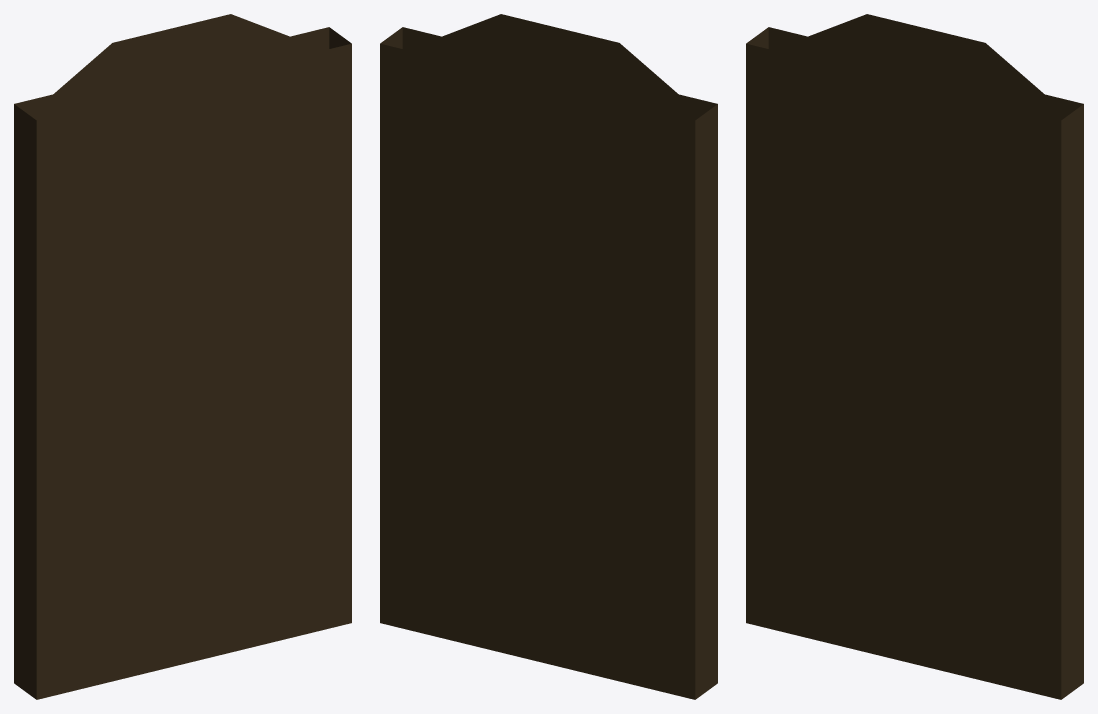
The model's file is Itr_Obj_Grandfatherclock1_Back_02.FBX.
3 views of the same model, side by side, from view 1: azimuth 30°, elevation 25°; view 2: azimuth 150°, elevation 25°; view 3: azimuth 330°, elevation 25° (orthographic).
Visible parts, largest first — view 1: Itr_Obj_Grandfatherclock1_Back_02; view 2: Itr_Obj_Grandfatherclock1_Back_02; view 3: Itr_Obj_Grandfatherclock1_Back_02.
Part boxes in pixels (x1=…): Itr_Obj_Grandfatherclock1_Back_02: x1=14, y1=14, x2=351, y2=699; Itr_Obj_Grandfatherclock1_Back_02: x1=380, y1=14, x2=717, y2=699; Itr_Obj_Grandfatherclock1_Back_02: x1=746, y1=14, x2=1083, y2=699.
Bounding box in the file's own units: 19.3 × 36.07 × 2.41.
